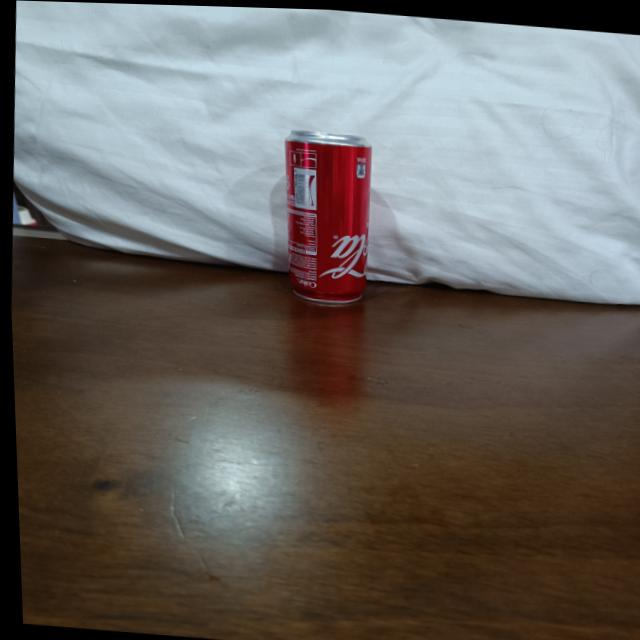coke: (267, 122, 381, 310)
